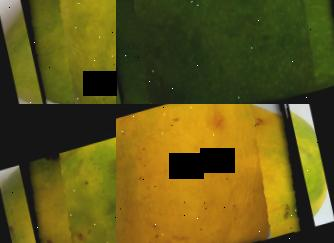PartiallyRipe: (19, 104, 116, 243), (16, 0, 116, 104)
Ripe: (116, 104, 312, 243)
Unripe: (116, 0, 334, 104)
